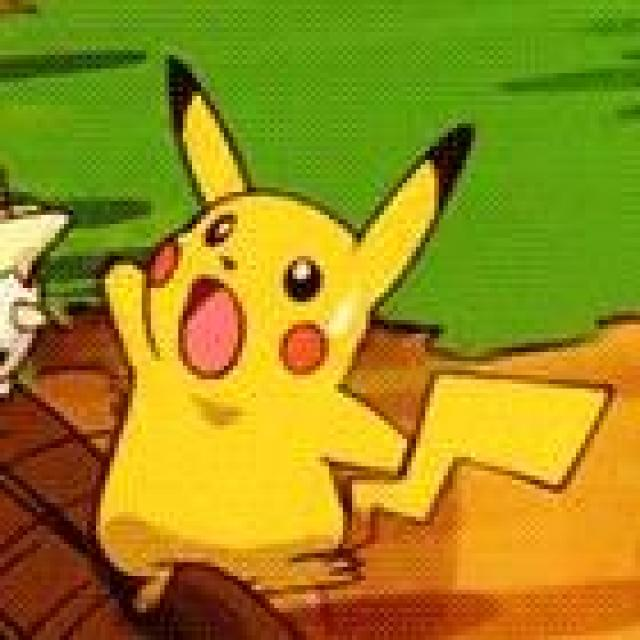pikachu: (103, 60, 611, 613)
